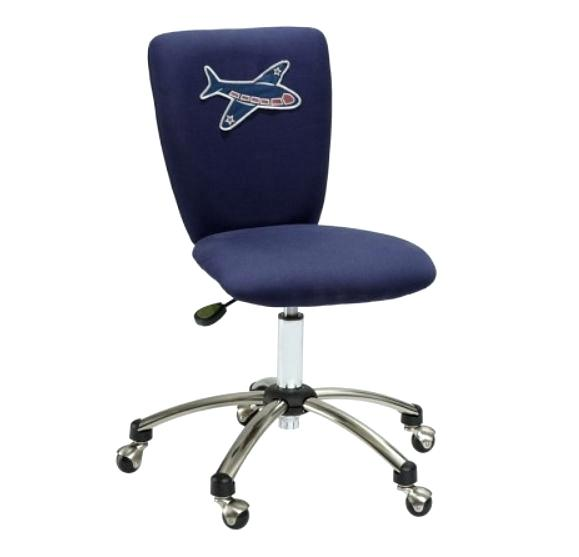chairs: (109, 22, 442, 534)
